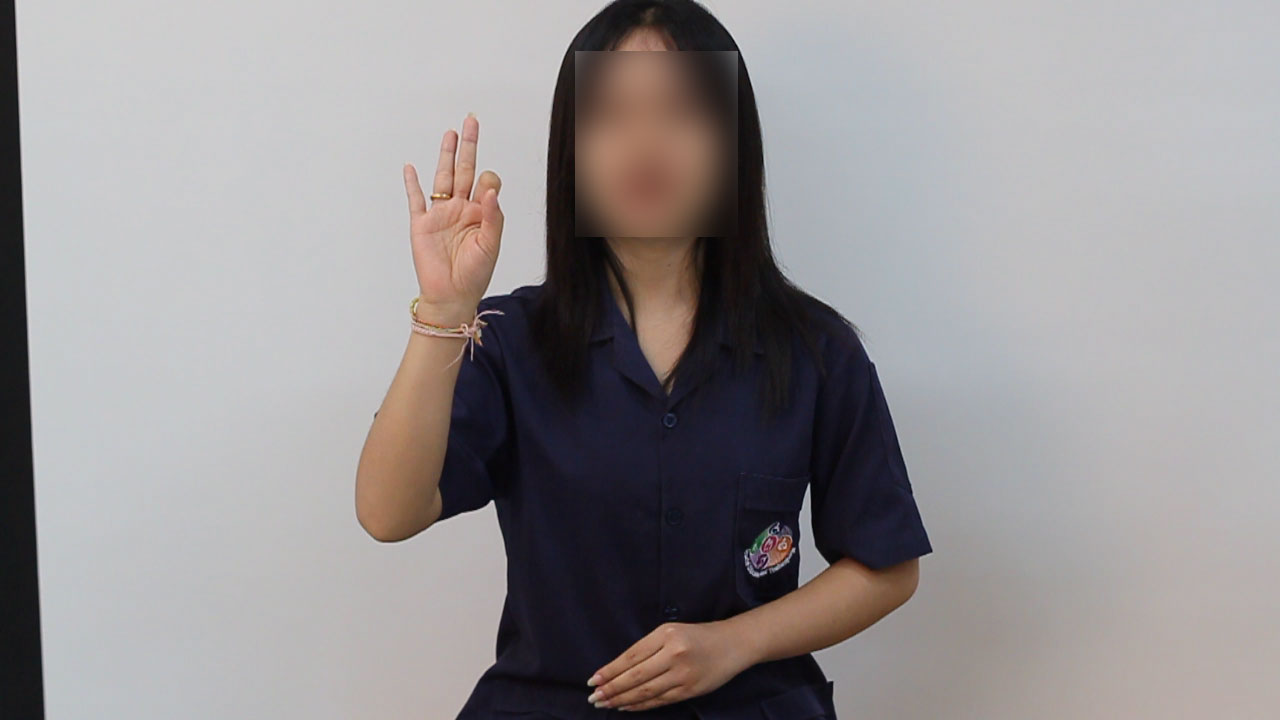for: (395, 99, 511, 319)
